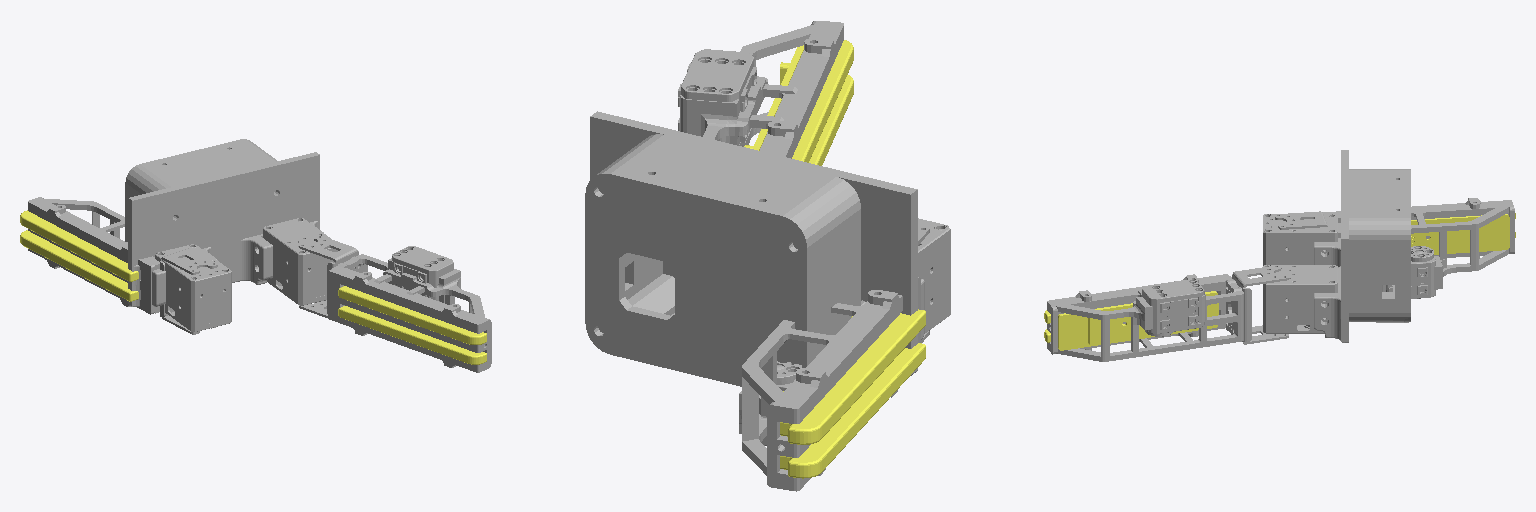
robot.urdf — IHM_finger:
<?xml version="1.0" encoding="utf-8"?>
<!-- This URDF was automatically created by SolidWorks to URDF Exporter! Originally created by [author] ([email redacted]) 
     Commit Version: 1.6.0-4-g7f85cfe  Build Version: 1.6.7995.38578
     For more information, please see http://wiki.ros.org/sw_urdf_exporter -->
<robot
  name="IHM_finger">
 
  <link
    name="base_link">
    <inertial>
      <origin
        xyz="-0.00073603905102797 -0.124439967353438 0.0163148045871533"
        rpy="0 0 0" />
      <mass
        value="0.257859871104782" />
      <inertia
        ixx="0.000126085881307814"
        ixy="4.49330941225322E-07"
        ixz="-2.4468231651258E-06"
        iyy="0.000301839424292738"
        iyz="-1.8522073924102E-06"
        izz="0.000239672815646621" />
    </inertial>
    <visual>
      <origin
        xyz="0 0 0"
        rpy="0 0 0" />
      <geometry>
        <mesh
          filename="package://IHM_finger/meshes/base_link.STL" />
      </geometry>
      <material
        name="">
        <color
          rgba="0.752941176470588 0.752941176470588 0.752941176470588 1" />
      </material>
    </visual>
    <collision>
      <origin
        xyz="0 0 0"
        rpy="0 0 0" />
      <geometry>
        <mesh
          filename="package://IHM_finger/meshes/base_link.STL" />
      </geometry>
    </collision>
  </link>
  <link
    name="left_finger">
    <inertial>
      <origin
        xyz="-0.0070962 0.07599 -0.00064418"
        rpy="0 0 0" />
      <mass
        value="0.054988" />
      <inertia
        ixx="5.0702E-05"
        ixy="-1.7234E-07"
        ixz="-6.0271E-07"
        iyy="1.0298E-05"
        iyz="-1.0717E-06"
        izz="5.2995E-05" />
    </inertial>
    <visual>
      <origin
        xyz="0 0 0"
        rpy="0 0 0" />
      <geometry>
        <mesh
          filename="package://IHM_finger/meshes/left_finger.STL" />
      </geometry>
      <material
        name="">
        <color
          rgba="0.75294 0.75294 0.75294 1" />
      </material>
    </visual>
    <collision>
      <origin
        xyz="0 0 0"
        rpy="0 0 0" />
      <geometry>
        <mesh
          filename="package://IHM_finger/meshes/left_finger.STL" />
      </geometry>
    </collision>
  </link>
  <joint
    name="joint0"
    type="revolute">
    <origin
      xyz="0.037012 -0.1645 0"
      rpy="2.802 1.5708 0" />
    <parent
      link="base_link" />
    <child
      link="left_finger" />
    <axis
      xyz="1 0 0" />
    <limit
      lower="-3.14"
      upper="3.14"
      effort="10"
      velocity="100" />
  </joint>
  <link
    name="left_insert">
    <inertial>
      <origin
        xyz="0.012 -0.051365 0.011392"
        rpy="0 0 0" />
      <mass
        value="0.027304" />
      <inertia
        ixx="2.6941E-05"
        ixy="-1.2407E-11"
        ixz="-1.0722E-11"
        iyy="2.1544E-06"
        iyz="-1.4064E-07"
        izz="2.7279E-05" />
    </inertial>
    <visual>
      <origin
        xyz="0 0 0"
        rpy="0 0 0" />
      <geometry>
        <mesh
          filename="package://IHM_finger/meshes/left_insert.STL" />
      </geometry>
      <material
        name="">
        <color
          rgba="0.99216 1 0.41961 1" />
      </material>
    </visual>
    <collision>
      <origin
        xyz="0 0 0"
        rpy="0 0 0" />
      <geometry>
        <mesh
          filename="package://IHM_finger/meshes/left_insert.STL" />
      </geometry>
    </collision>
  </link>
  <joint
    name="joint1"
    type="prismatic">
    <origin
      xyz="-0.013495 0.144 0"
      rpy="0 0 0" />
    <parent
      link="left_finger" />
    <child
      link="left_insert" />
    <axis
      xyz="0 0 1" />
    <limit
      lower="-10"
      upper="10"
      effort="15"
      velocity="1" />
  </joint>
  <link
    name="right_finger">
    <inertial>
      <origin
        xyz="-0.002917 0.07599 -0.00064418"
        rpy="0 0 0" />
      <mass
        value="0.054988" />
      <inertia
        ixx="5.0702E-05"
        ixy="-1.7235E-07"
        ixz="-6.0271E-07"
        iyy="1.0298E-05"
        iyz="-1.0717E-06"
        izz="5.2995E-05" />
    </inertial>
    <visual>
      <origin
        xyz="0 0 0"
        rpy="0 0 0" />
      <geometry>
        <mesh
          filename="package://IHM_finger/meshes/right_finger.STL" />
      </geometry>
      <material
        name="">
        <color
          rgba="0.75294 0.75294 0.75294 1" />
      </material>
    </visual>
    <collision>
      <origin
        xyz="0 0 0"
        rpy="0 0 0" />
      <geometry>
        <mesh
          filename="package://IHM_finger/meshes/right_finger.STL" />
      </geometry>
    </collision>
  </link>
  <joint
    name="joint2"
    type="revolute">
    <origin
      xyz="-0.037488 -0.1645 0"
      rpy="0.15466 -1.5708 0" />
    <parent
      link="base_link" />
    <child
      link="right_finger" />
    <axis
      xyz="1 0 0" />
    <limit
      lower="-3.14"
      upper="3.14"
      effort="10"
      velocity="100" />
  </joint>
  <link
    name="right_insert">
    <inertial>
      <origin
        xyz="0.012 -0.051365 0.02879"
        rpy="0 0 0" />
      <mass
        value="0.027304" />
      <inertia
        ixx="2.6941E-05"
        ixy="-1.2405E-11"
        ixz="-1.0716E-11"
        iyy="2.1544E-06"
        iyz="-1.4064E-07"
        izz="2.7279E-05" />
    </inertial>
    <visual>
      <origin
        xyz="0 0 0"
        rpy="0 0 0" />
      <geometry>
        <mesh
          filename="package://IHM_finger/meshes/right_insert.STL" />
      </geometry>
      <material
        name="">
        <color
          rgba="0.99216 1 0.41961 1" />
      </material>
    </visual>
    <collision>
      <origin
        xyz="0 0 0"
        rpy="0 0 0" />
      <geometry>
        <mesh
          filename="package://IHM_finger/meshes/right_insert.STL" />
      </geometry>
    </collision>
  </link>
  <joint
    name="joint3"
    type="prismatic">
    <origin
      xyz="-0.010316 0.144 -0.014597"
      rpy="0 0 0" />
    <parent
      link="right_finger" />
    <child
      link="right_insert" />
    <axis
      xyz="0 0 1" />
    <limit
      lower="-10"
      upper="10"
      effort="15"
      velocity="1" />
  </joint>
</robot>

--- Render facts (derived) ---
The picture shows the robot from 3 angles, left to right: view 1: azimuth 30°, elevation 25°; view 2: azimuth 150°, elevation 25°; view 3: azimuth 270°, elevation 25°; orthographic projection.
Robot: IHM_finger — 5 links, 4 joints (2 revolute, 2 prismatic); root link base_link; default pose: every joint at zero.
Links seen in each view (by area): view 1: base_link, left_finger, right_finger, left_insert, right_insert; view 2: base_link, left_finger, right_finger, right_insert, left_insert; view 3: base_link, left_finger, right_finger, left_insert, right_insert.
Link boxes in pixels (left/top/right/bottom): base_link: left=125, top=139, right=337, bottom=331; left_finger: left=299, top=235, right=491, bottom=372; right_finger: left=28, top=197, right=217, bottom=334; left_insert: left=338, top=286, right=486, bottom=364; right_insert: left=20, top=210, right=138, bottom=301; base_link: left=585, top=111, right=950, bottom=386; left_finger: left=678, top=21, right=843, bottom=158; right_finger: left=739, top=225, right=929, bottom=491; right_insert: left=780, top=309, right=925, bottom=478; left_insert: left=744, top=40, right=853, bottom=165; base_link: left=1263, top=150, right=1410, bottom=342; left_finger: left=1047, top=265, right=1288, bottom=361; right_finger: left=1275, top=198, right=1514, bottom=298; left_insert: left=1044, top=291, right=1218, bottom=350; right_insert: left=1411, top=213, right=1515, bottom=254.
Bounding box of the posed robot: 0.1758 × 0.2907 × 0.0829 m (x, y, z).
Meshes: 5 distinct files referenced, 5 mesh visuals loaded (5 binary STL).